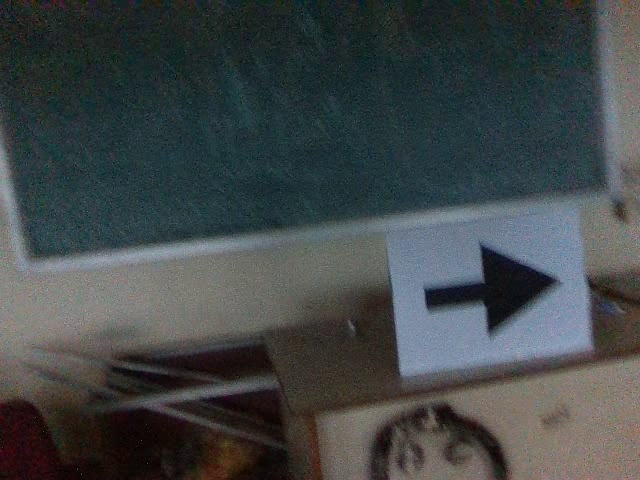Right: (411, 234, 568, 344)
